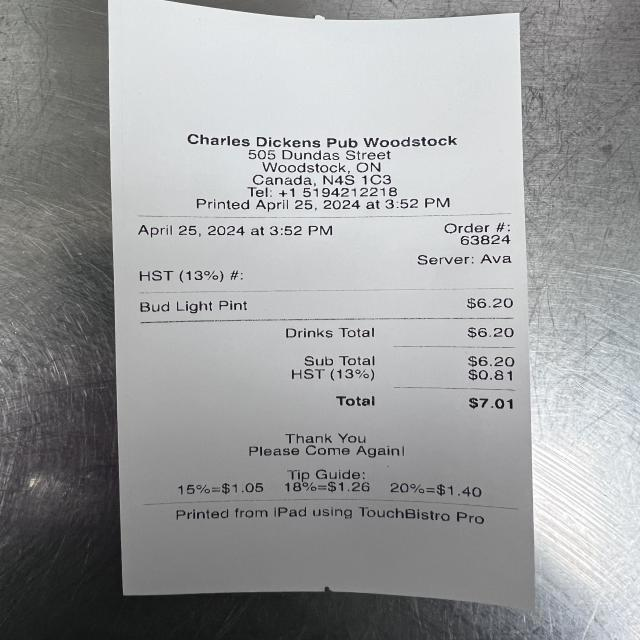item: (136, 294, 524, 316)
store_name: (176, 128, 464, 154)
total_amount: (324, 389, 523, 415)
transaction_date: (130, 218, 250, 242)
